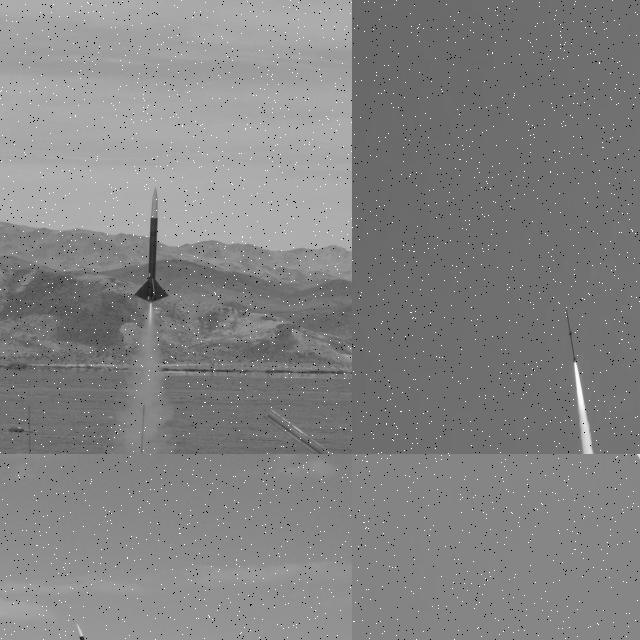Rocket: (134, 186, 170, 302), (566, 307, 577, 363), (76, 623, 109, 640)
